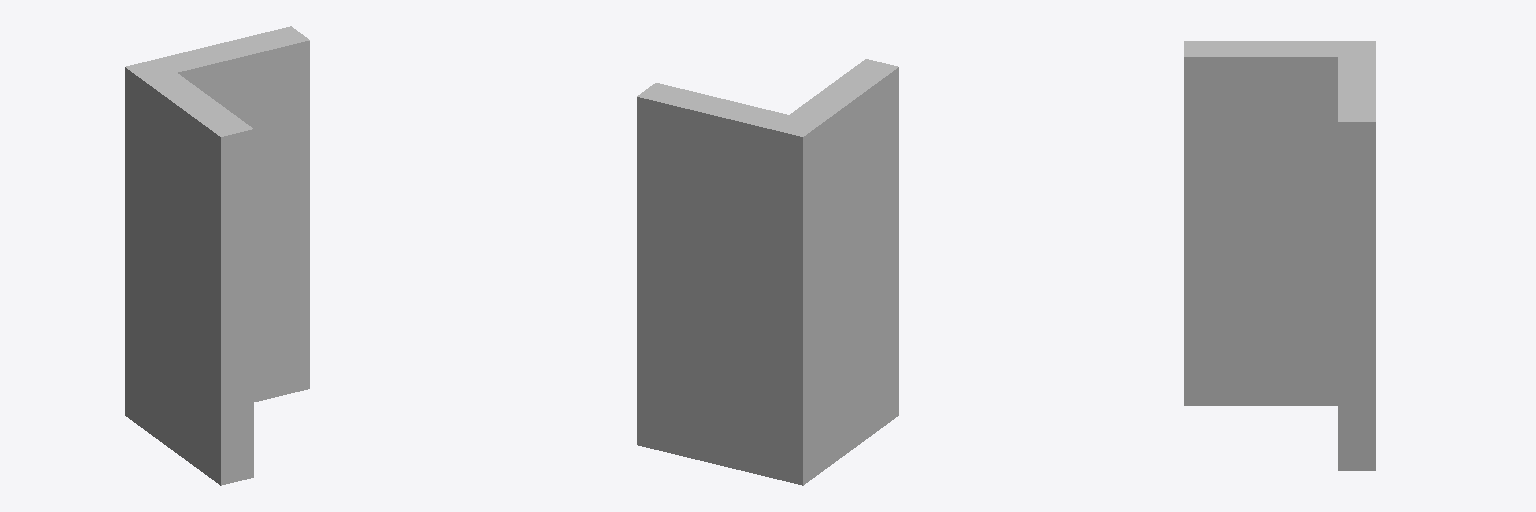
File: corner.obj
The picture shows the model from 3 angles: view 1: azimuth 30°, elevation 25°; view 2: azimuth 150°, elevation 25°; view 3: azimuth 270°, elevation 25°; orthographic projection.
Visible parts, largest first — view 1: Corner_Internal_Cube.001; view 2: Corner_Internal_Cube.001; view 3: Corner_Internal_Cube.001.
Boxes of the visible parts, x1=… form: Corner_Internal_Cube.001: x1=125, y1=26, x2=309, y2=485; Corner_Internal_Cube.001: x1=637, y1=59, x2=898, y2=485; Corner_Internal_Cube.001: x1=1184, y1=41, x2=1375, y2=470.
Bounding box in the file's own units: 2 × 4 × 2.